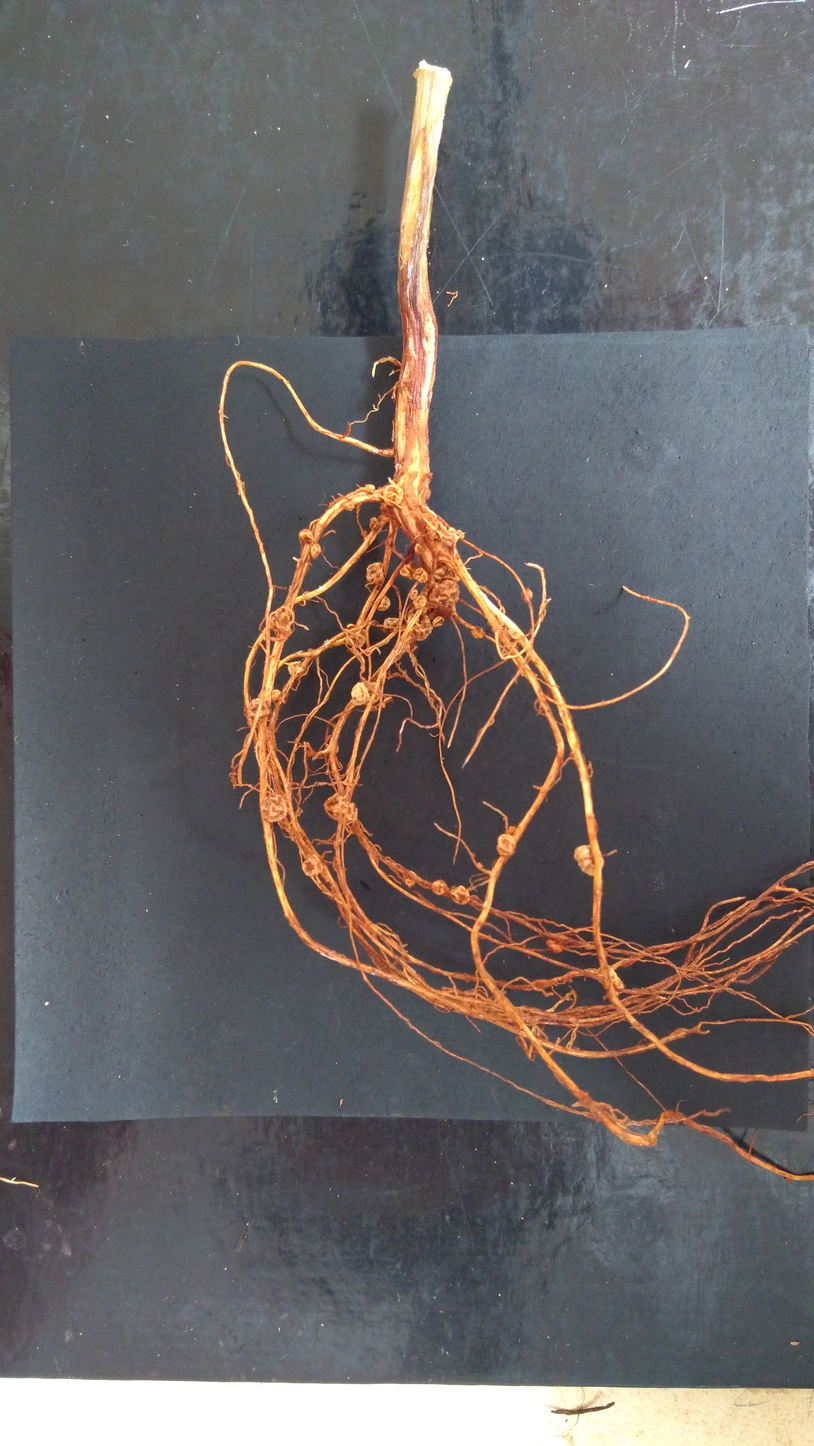nodule: (404, 602, 433, 641), (323, 792, 358, 824), (573, 844, 606, 876), (596, 964, 627, 996), (428, 578, 461, 607), (268, 606, 295, 639), (260, 794, 288, 823), (433, 563, 462, 583), (425, 519, 449, 543), (345, 623, 367, 648), (301, 854, 324, 877), (383, 484, 405, 507), (351, 681, 371, 706), (496, 833, 517, 856), (365, 562, 385, 586), (363, 681, 382, 706), (246, 699, 270, 718), (450, 884, 470, 906), (399, 561, 419, 581), (545, 936, 566, 953), (287, 661, 307, 678), (413, 566, 429, 584), (382, 617, 400, 633), (431, 878, 447, 896), (298, 529, 315, 544), (376, 595, 391, 612), (404, 870, 418, 888), (266, 761, 281, 777), (470, 625, 485, 640), (447, 526, 458, 546), (413, 594, 427, 609), (520, 587, 533, 603), (507, 626, 523, 639), (391, 513, 403, 529), (310, 543, 321, 559), (431, 615, 444, 628), (500, 628, 513, 641), (271, 688, 282, 702), (505, 825, 517, 836), (369, 517, 379, 530), (305, 746, 315, 759), (414, 542, 423, 556), (365, 484, 376, 495), (302, 591, 312, 602), (456, 528, 465, 540), (377, 514, 390, 522), (344, 502, 355, 511), (379, 501, 388, 512), (409, 589, 418, 600), (360, 529, 368, 537), (510, 642, 518, 650)
